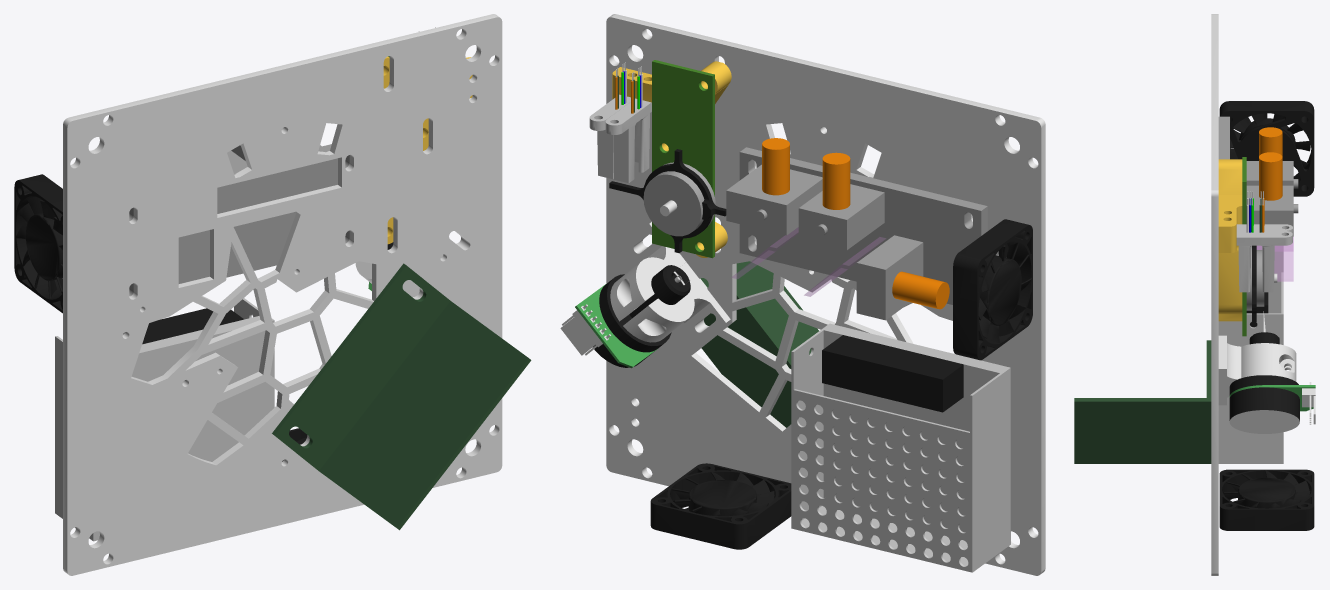
Rendered from r01-deck.glb.
3 views of the same model, side by side, from view 1: azimuth 30°, elevation 25°; view 2: azimuth 150°, elevation 25°; view 3: azimuth 270°, elevation 25° (orthographic). The views are drawn at different scales.
Parts seen in each view (by area): view 1: r01-deck; view 2: r01-deck; view 3: r01-deck.
Boxes of the visible parts, left/top/right/bottom form: r01-deck: left=14, top=14, right=531, bottom=575; r01-deck: left=560, top=14, right=1045, bottom=575; r01-deck: left=1074, top=14, right=1315, bottom=575.
Bounding box in the file's own units: 0.18 × 0.18 × 0.1022.
